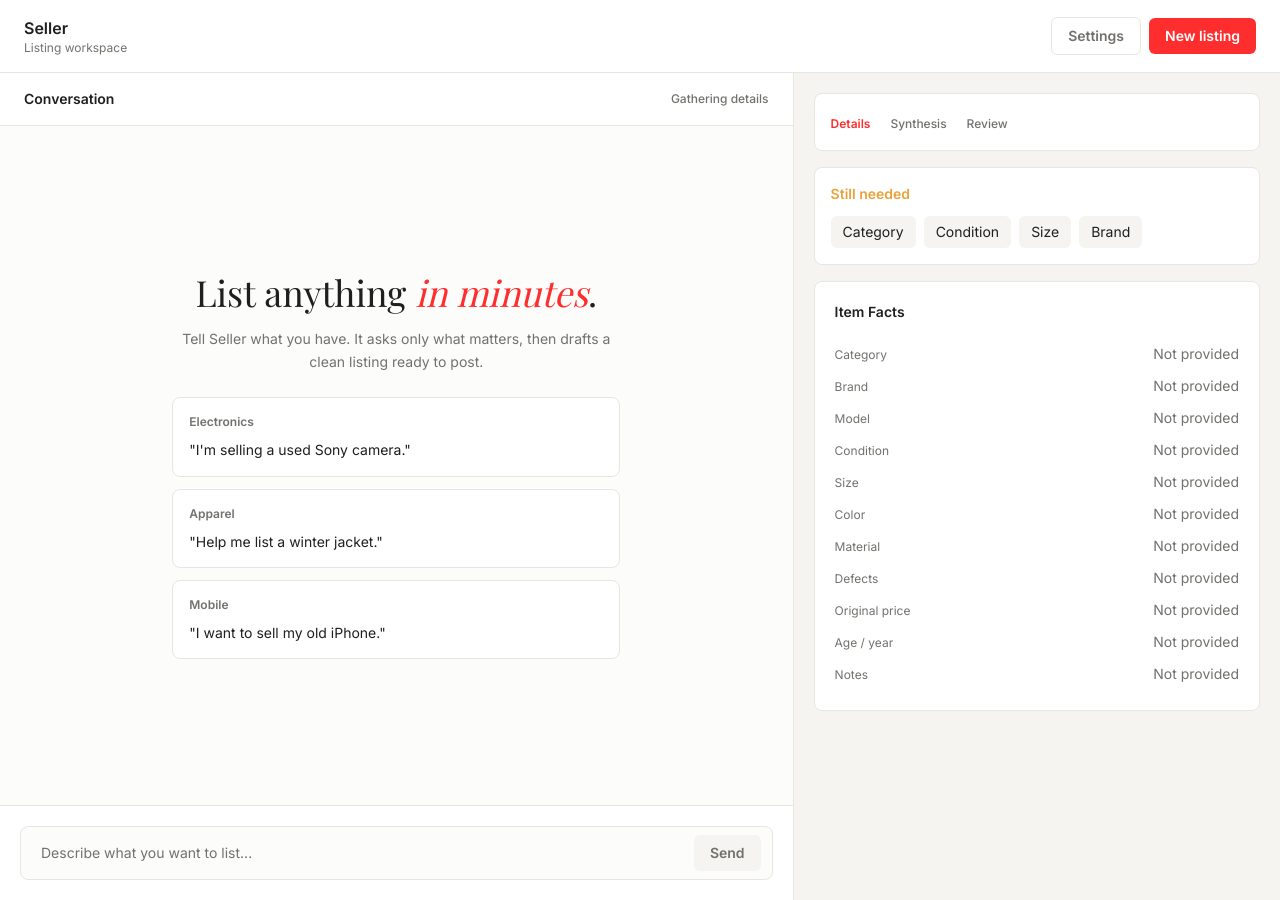
Test: SellerAgentPage › preserves the input after a failed send and shows a useful error
The width and height of the screenshot is (1280, 900).
expect the heading "List anything in minutes." is shown: met, box [172, 272, 620, 312]
Type "hello there" into the text box named "message". click: (396, 853)
box: [20, 826, 773, 880]
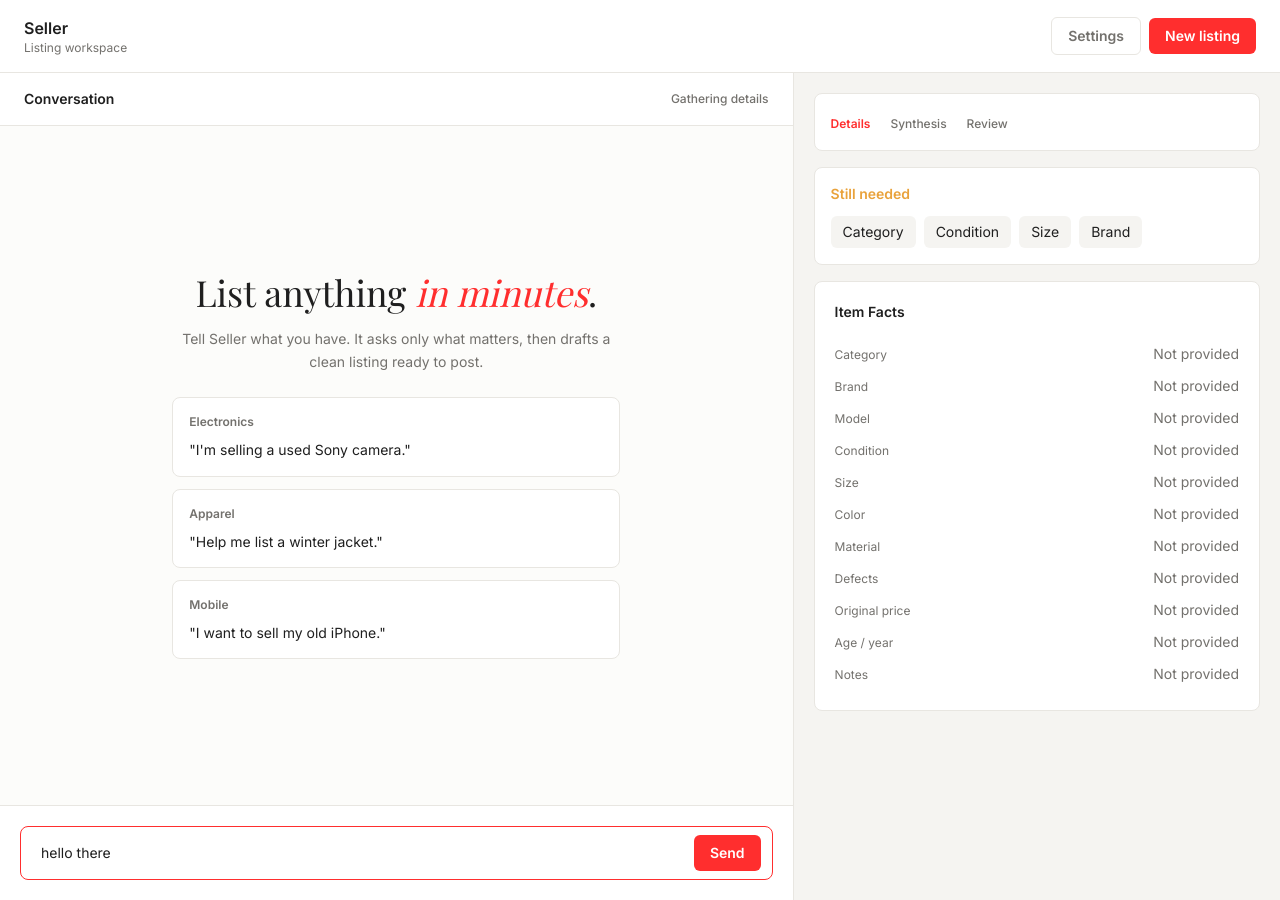
Click the button with aria-label "send message". click: (727, 853)
box: [694, 835, 761, 871]
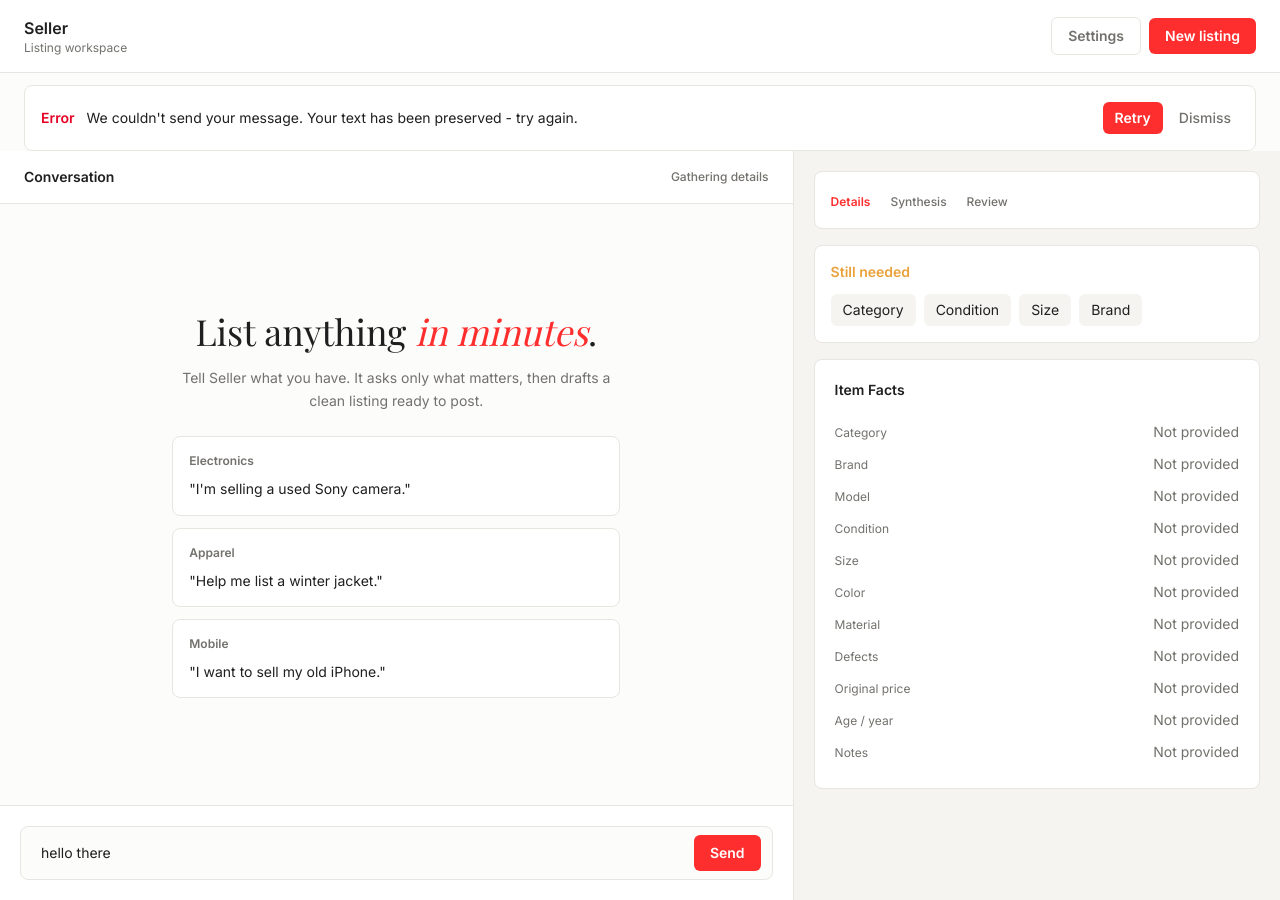
expect the message shows "couldn't send your message": met, box [86, 109, 578, 126]
